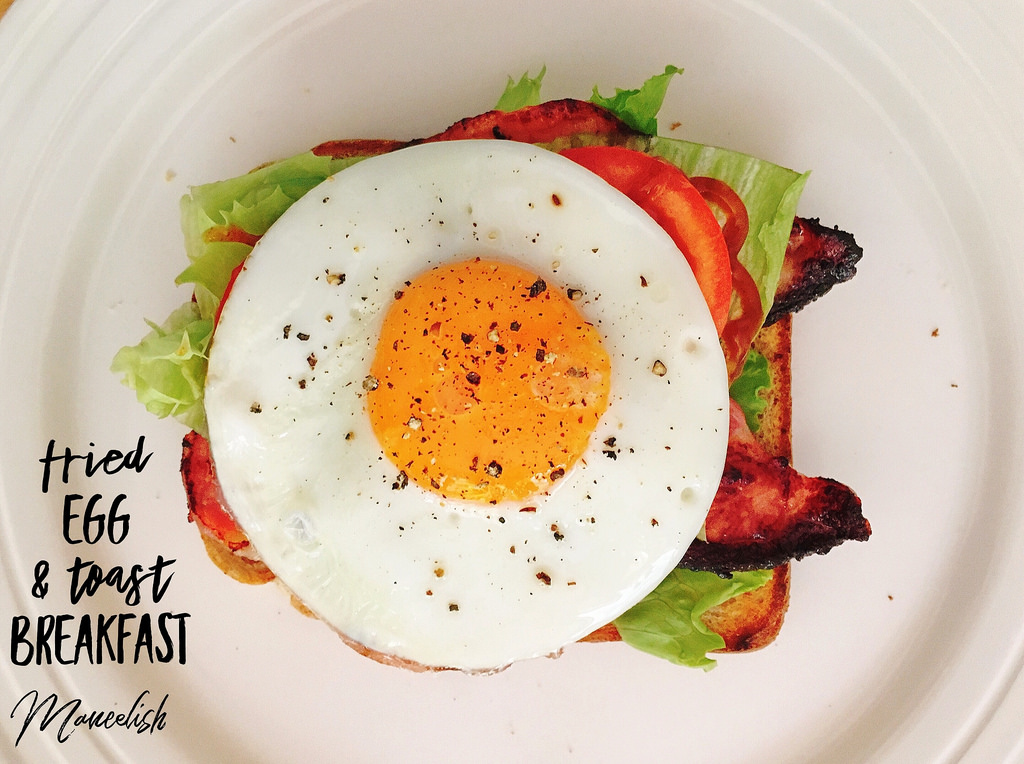fried egg: (219, 174, 711, 641)
